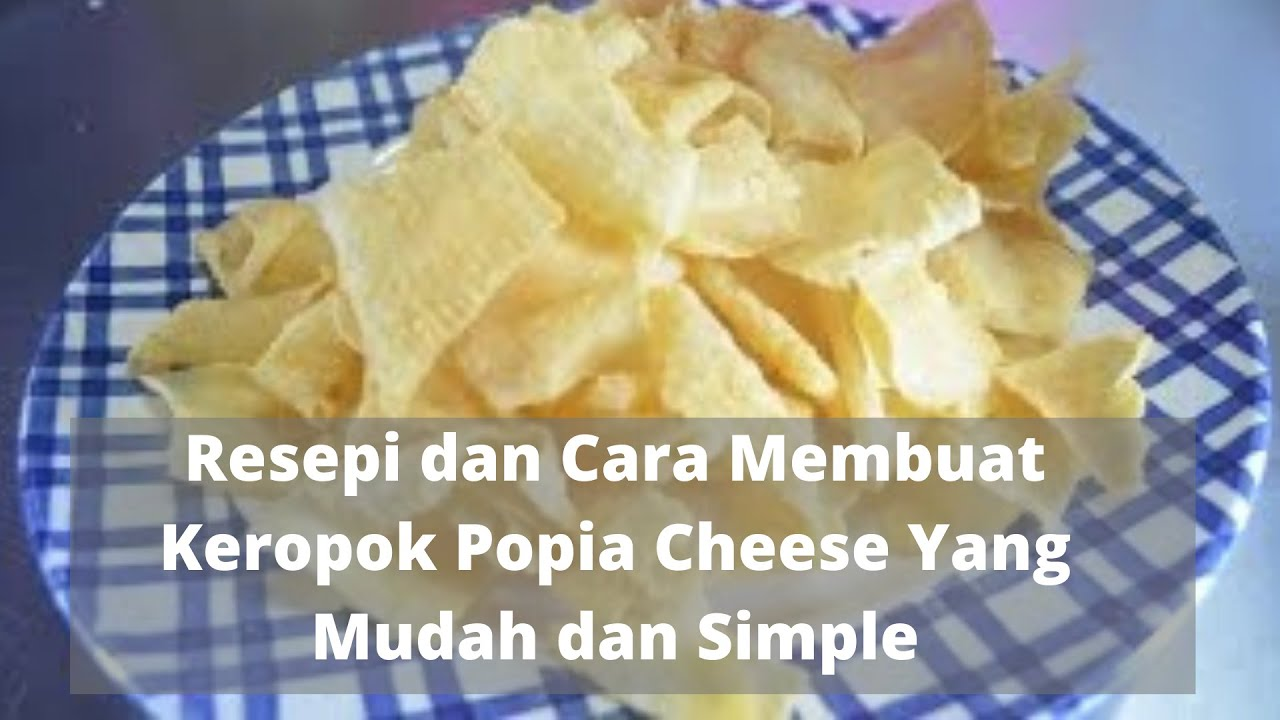cheese: (423, 129, 1041, 413)
